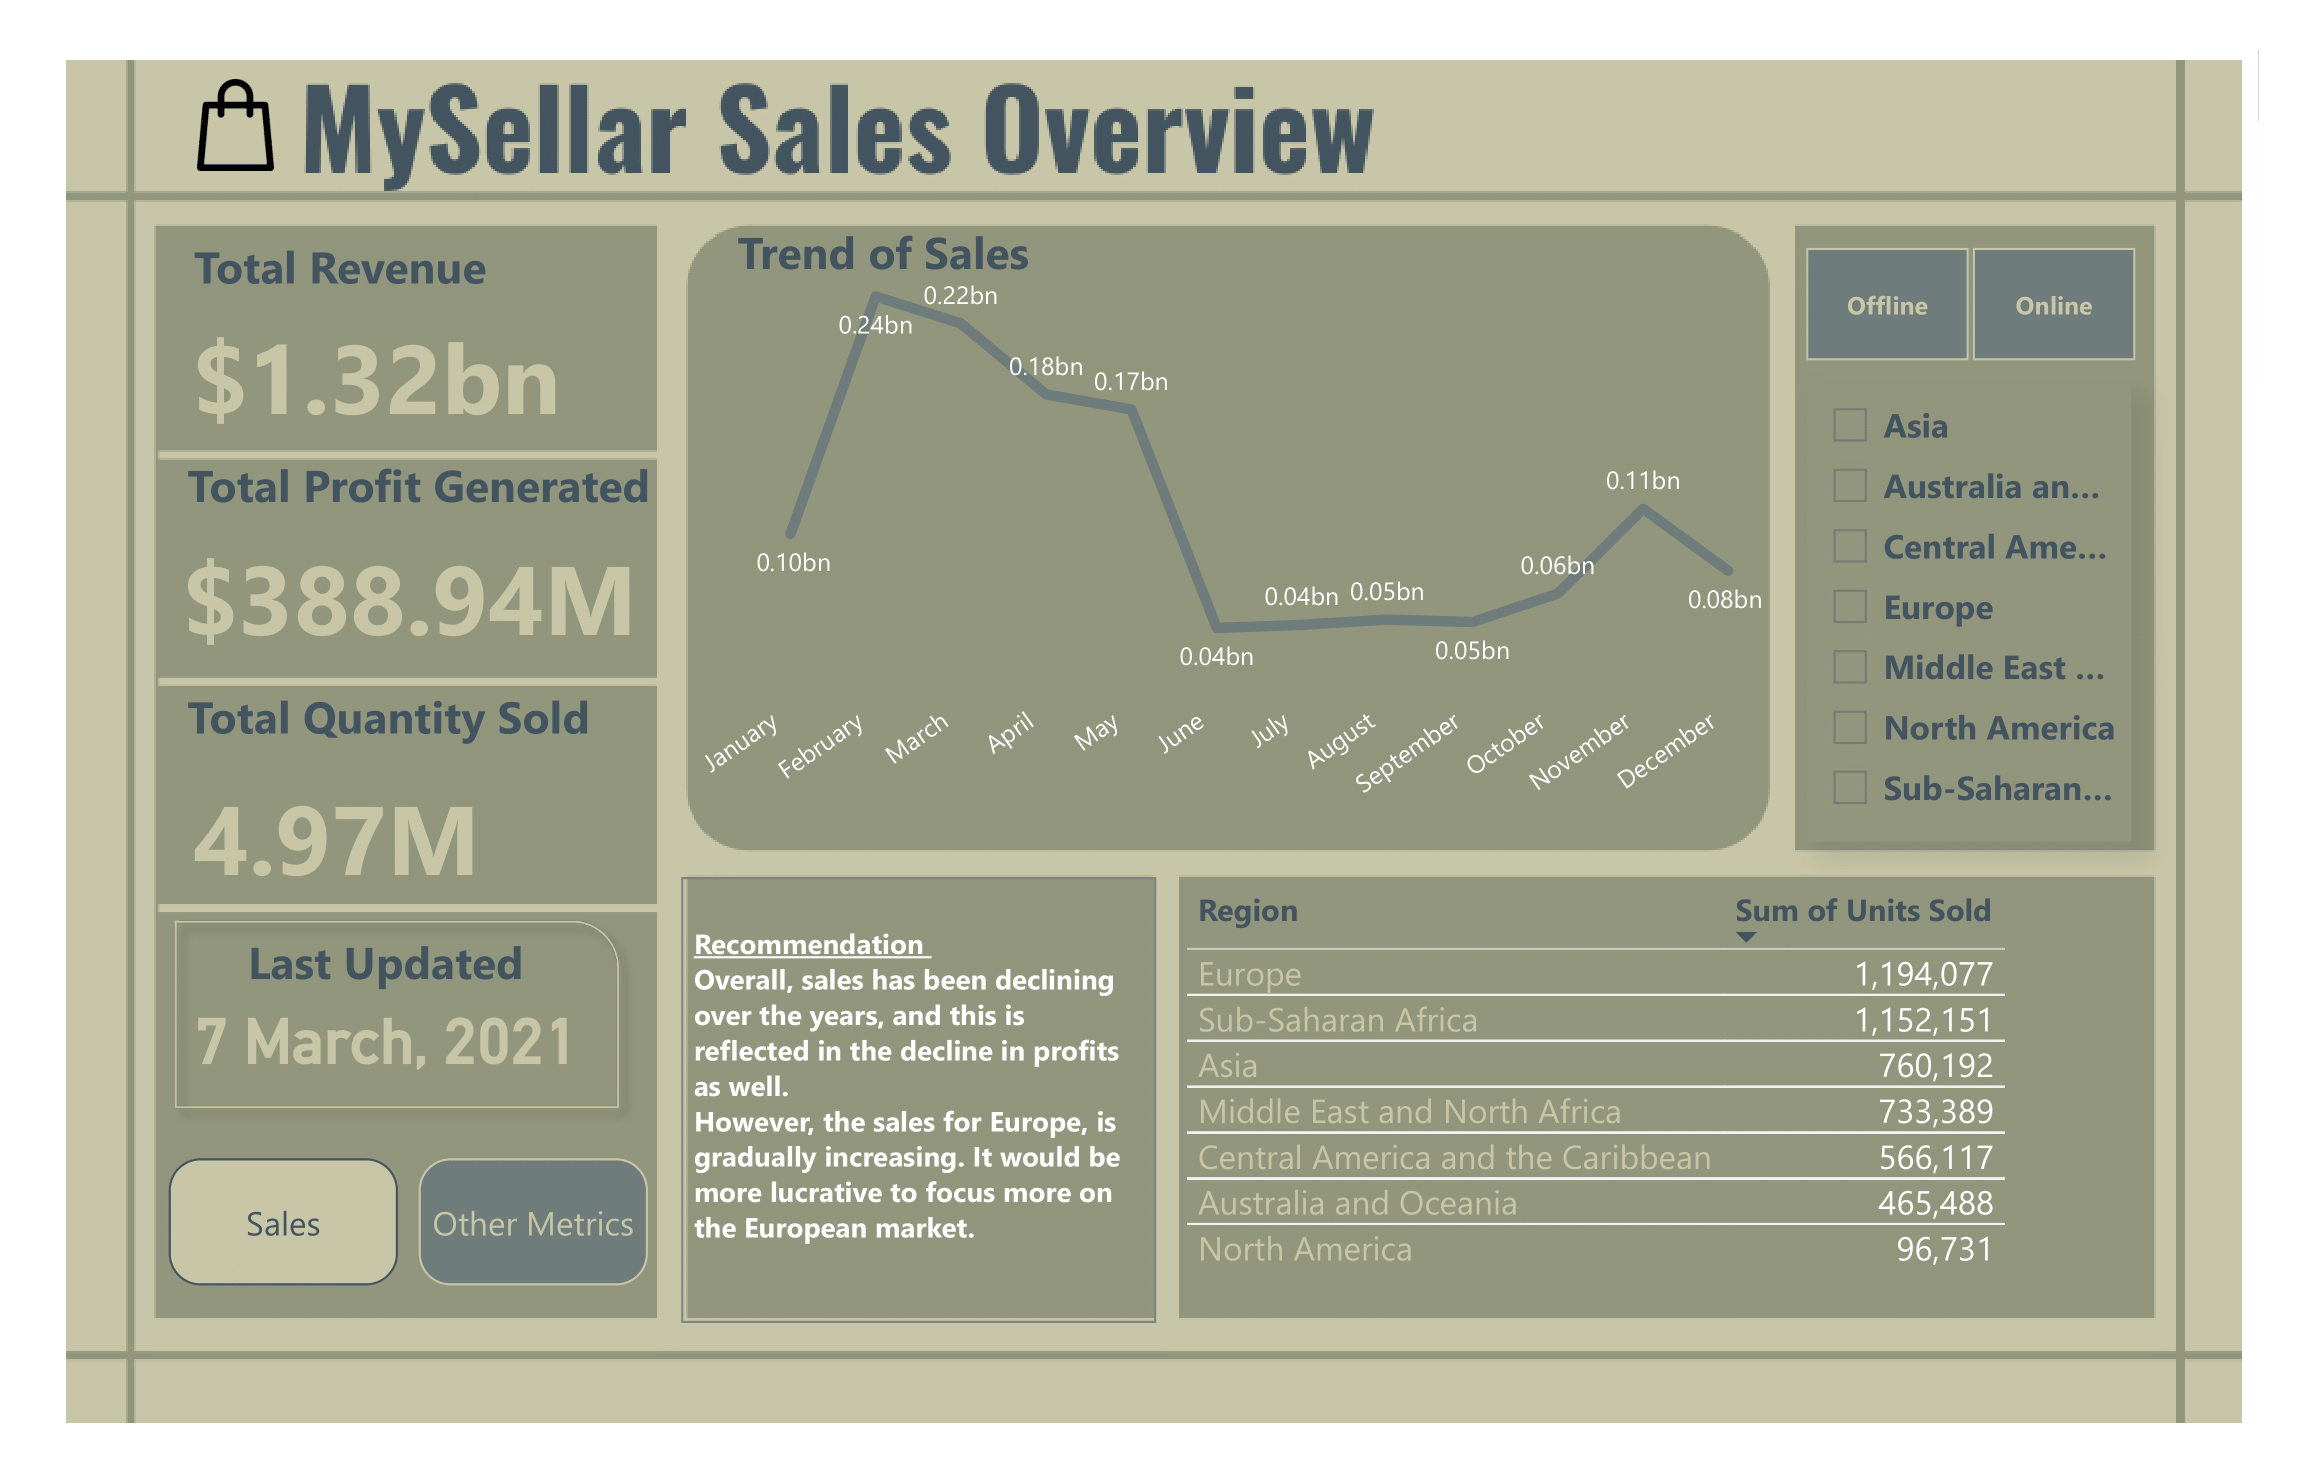

Layout of this report page (visuals, bound fields, positions):
{"tool":"powerbi","page":{"name":"Sales","canvas":[1060,664],"ordinal":0},"visuals":[{"type":"image","title":"Layout 1","box":[0,0,1060,664],"z":0},{"type":"card","fields":{"Values":["Measures_.Total Revenue"]},"box":[40,122.7,233.3,65.3],"z":0,"group":"g1"},{"type":"card","fields":{"Values":["Measures_.Total Profit"]},"box":[57.3,229.3,230.7,65.3],"z":0,"group":"g2"},{"type":"card","fields":{"Values":["Measures_.Total Quantity Sold"]},"box":[20,344,234.7,65.3],"z":0,"group":"g3"},{"type":"multiRowCard","fields":{"Values":["Measures_.Last Date Update"]},"box":[64,453.3,201.3,45.3],"z":0,"group":"g4"},{"type":"image","title":"Shop Icon ","box":[40,9.3,97.3,53.3],"z":1000},{"type":"textbox","box":[63.9,84,193.9,45.2],"z":1000,"group":"g1"},{"type":"textbox","box":[61.3,189.3,254.7,40],"z":1000,"group":"g2"},{"type":"textbox","box":[61.2,300,231.1,47.8],"z":1000,"group":"g3"},{"type":"textbox","box":[89.4,418.6,153.3,48],"z":1000,"group":"g4"},{"type":"textbox","title":"Line Chart Title","box":[325.3,77.3,193.3,45.3],"z":2000},{"type":"shape","box":[50.7,409.3,230.7,108],"z":2000,"group":"g4"},{"type":"lineChart","title":"Line Chart","fields":{"Category":["Orders.Order Date.Variation.Date Hierarchy.Month"],"Y":["Sum(Orders.Total Revenue)"]},"box":[302.8,91.6,524.6,288.2],"z":3000},{"type":"slicer","title":"Channel Slicer","fields":{"Values":["Orders.Sales Channel"]},"box":[817.3,88,208,68],"z":4000},{"type":"slicer","title":"Regional Slicer","fields":{"Values":["Orders.Region"]},"box":[842.7,160,156,220],"z":5000},{"type":"pageNavigator","box":[57.3,532,230.7,61.3],"z":6000},{"type":"group","id":"g1","title":"Total Revenue","box":[40,84,233.3,104],"z":7000},{"type":"group","id":"g2","title":"Total Profit Generated","box":[57.3,189.3,258.7,105.3],"z":8000},{"type":"group","id":"g3","title":"Total Quantity Sold","box":[20,300,272.2,109.3],"z":9000},{"type":"group","id":"g4","title":"Last Updated","box":[50.7,409.3,230.7,108],"z":10000},{"type":"tableEx","fields":{"Values":["Orders.Region","Sum(Orders.Units Sold)"]},"box":[540.5,397.1,468.8,213.8],"z":11000},{"type":"textbox","box":[302.7,397.3,228,213.3],"z":12000}]}

Visuals, with their boxes on the page's 1060x664 design canvas (x1, y1, x2, y2). These are canvas units, not pixel positions in the 2308x1484 screenshot, which may show the page scaled, cropped or inside an application window:
"Layout 1" image: [0, 0, 1060, 664]
card - Measures_.Total Revenue: [40, 123, 273, 188]
card - Measures_.Total Profit: [57, 229, 288, 295]
card - Measures_.Total Quantity Sold: [20, 344, 255, 409]
multiRowCard - Measures_.Last Date Update: [64, 453, 265, 499]
"Shop Icon " image: [40, 9, 137, 63]
textbox: [64, 84, 258, 129]
textbox: [61, 189, 316, 229]
textbox: [61, 300, 292, 348]
textbox: [89, 419, 243, 467]
"Line Chart Title" textbox: [325, 77, 519, 123]
shape: [51, 409, 281, 517]
"Line Chart" lineChart: [303, 92, 827, 380]
"Channel Slicer" slicer: [817, 88, 1025, 156]
"Regional Slicer" slicer: [843, 160, 999, 380]
pageNavigator: [57, 532, 288, 593]
"Total Revenue" group: [40, 84, 273, 188]
"Total Profit Generated" group: [57, 189, 316, 295]
"Total Quantity Sold" group: [20, 300, 292, 409]
"Last Updated" group: [51, 409, 281, 517]
tableEx - Orders.Region x Sum(Orders.Units Sold): [540, 397, 1009, 611]
textbox: [303, 397, 531, 611]
